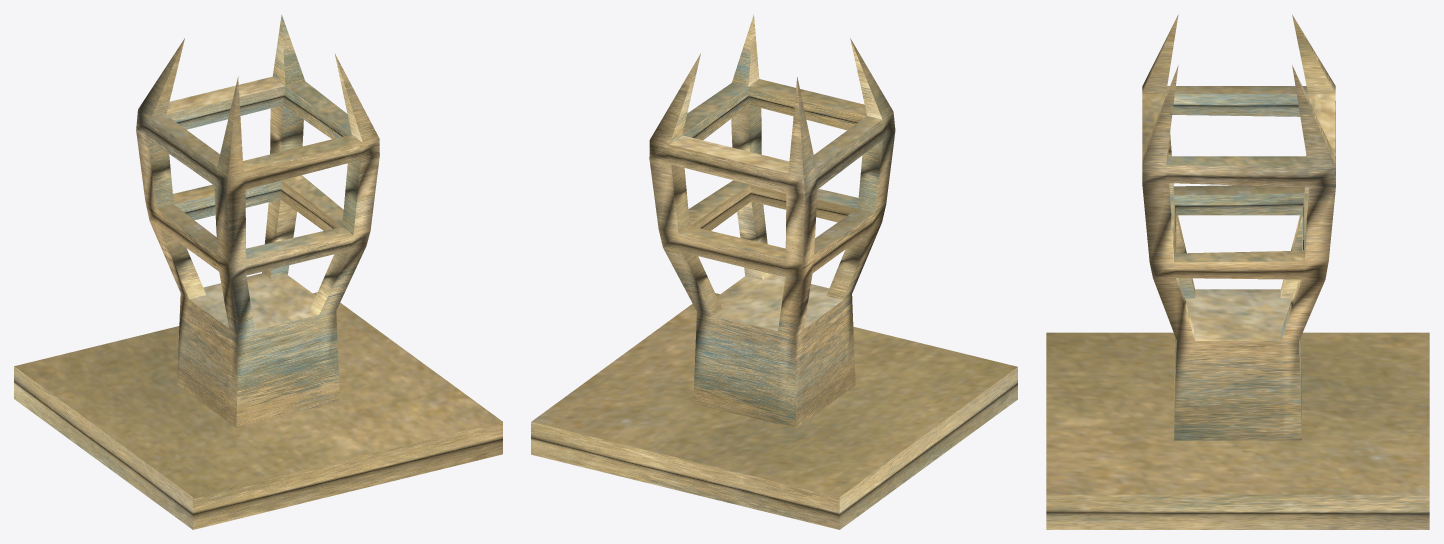
File: gemstone_hold.fbx
The picture shows the model from 3 angles, left to right: view 1: azimuth 30°, elevation 25°; view 2: azimuth 150°, elevation 25°; view 3: azimuth 270°, elevation 25°; orthographic projection. The views are drawn at different scales.
Visible parts, largest first — view 1: Cube.003; view 2: Cube.003; view 3: Cube.003.
Part boxes in pixels (left/top/right/bottom): Cube.003: left=14, top=14, right=502, bottom=529; Cube.003: left=531, top=14, right=1017, bottom=529; Cube.003: left=1046, top=14, right=1429, bottom=529.
Bounding box in the file's own units: 73.96 × 87.26 × 73.96.
